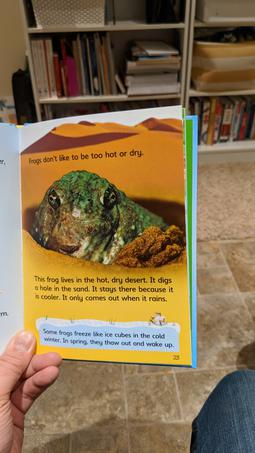text block: (30, 269, 182, 310), (38, 323, 179, 352), (21, 149, 148, 164)
